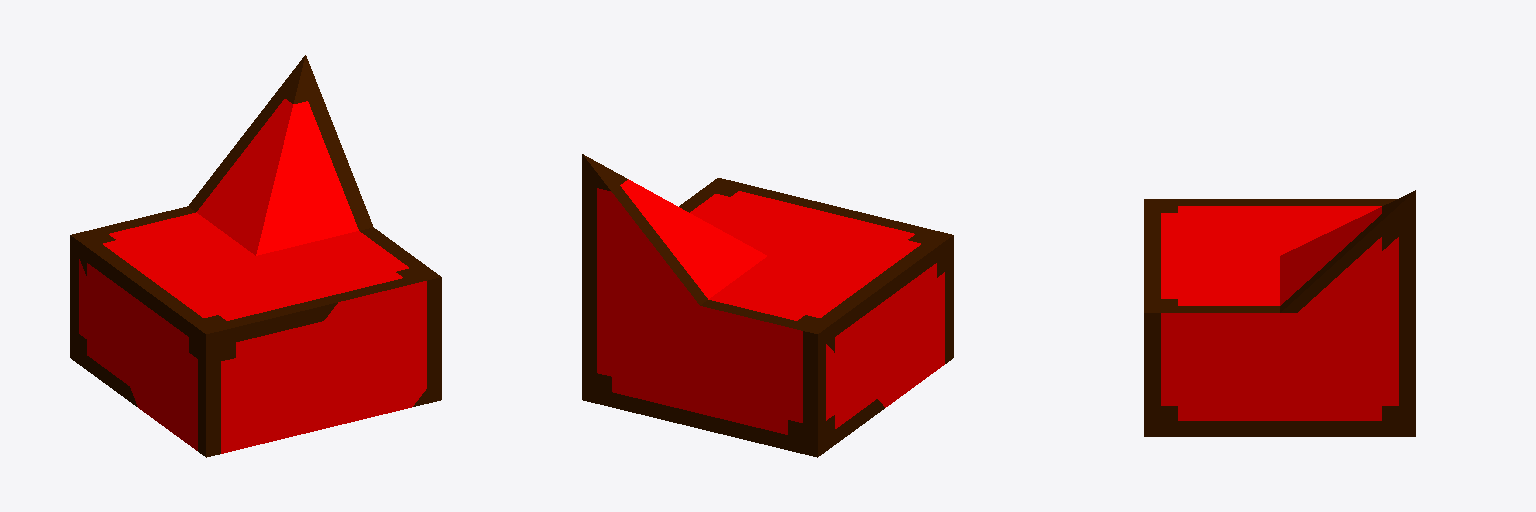
The picture shows the model from 3 angles: view 1: azimuth 30°, elevation 25°; view 2: azimuth 150°, elevation 25°; view 3: azimuth 270°, elevation 25°; orthographic projection.
Visible parts, largest first — view 1: 12_red; view 2: 12_red; view 3: 12_red.
Part boxes in pixels (left/top/right/bottom): 12_red: left=70, top=55, right=441, bottom=457; 12_red: left=582, top=154, right=953, bottom=457; 12_red: left=1144, top=190, right=1415, bottom=436.
Bounding box in the file's own units: 1 × 1 × 1.
Materials: 1 (1 with a texture image).